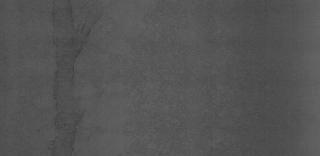water spot: (47, 3, 95, 148)
